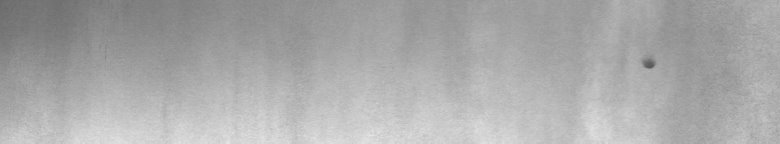fi: (640, 52, 660, 76)
